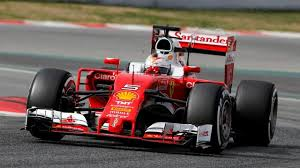FormulaOneCar: (24, 20, 283, 157)
